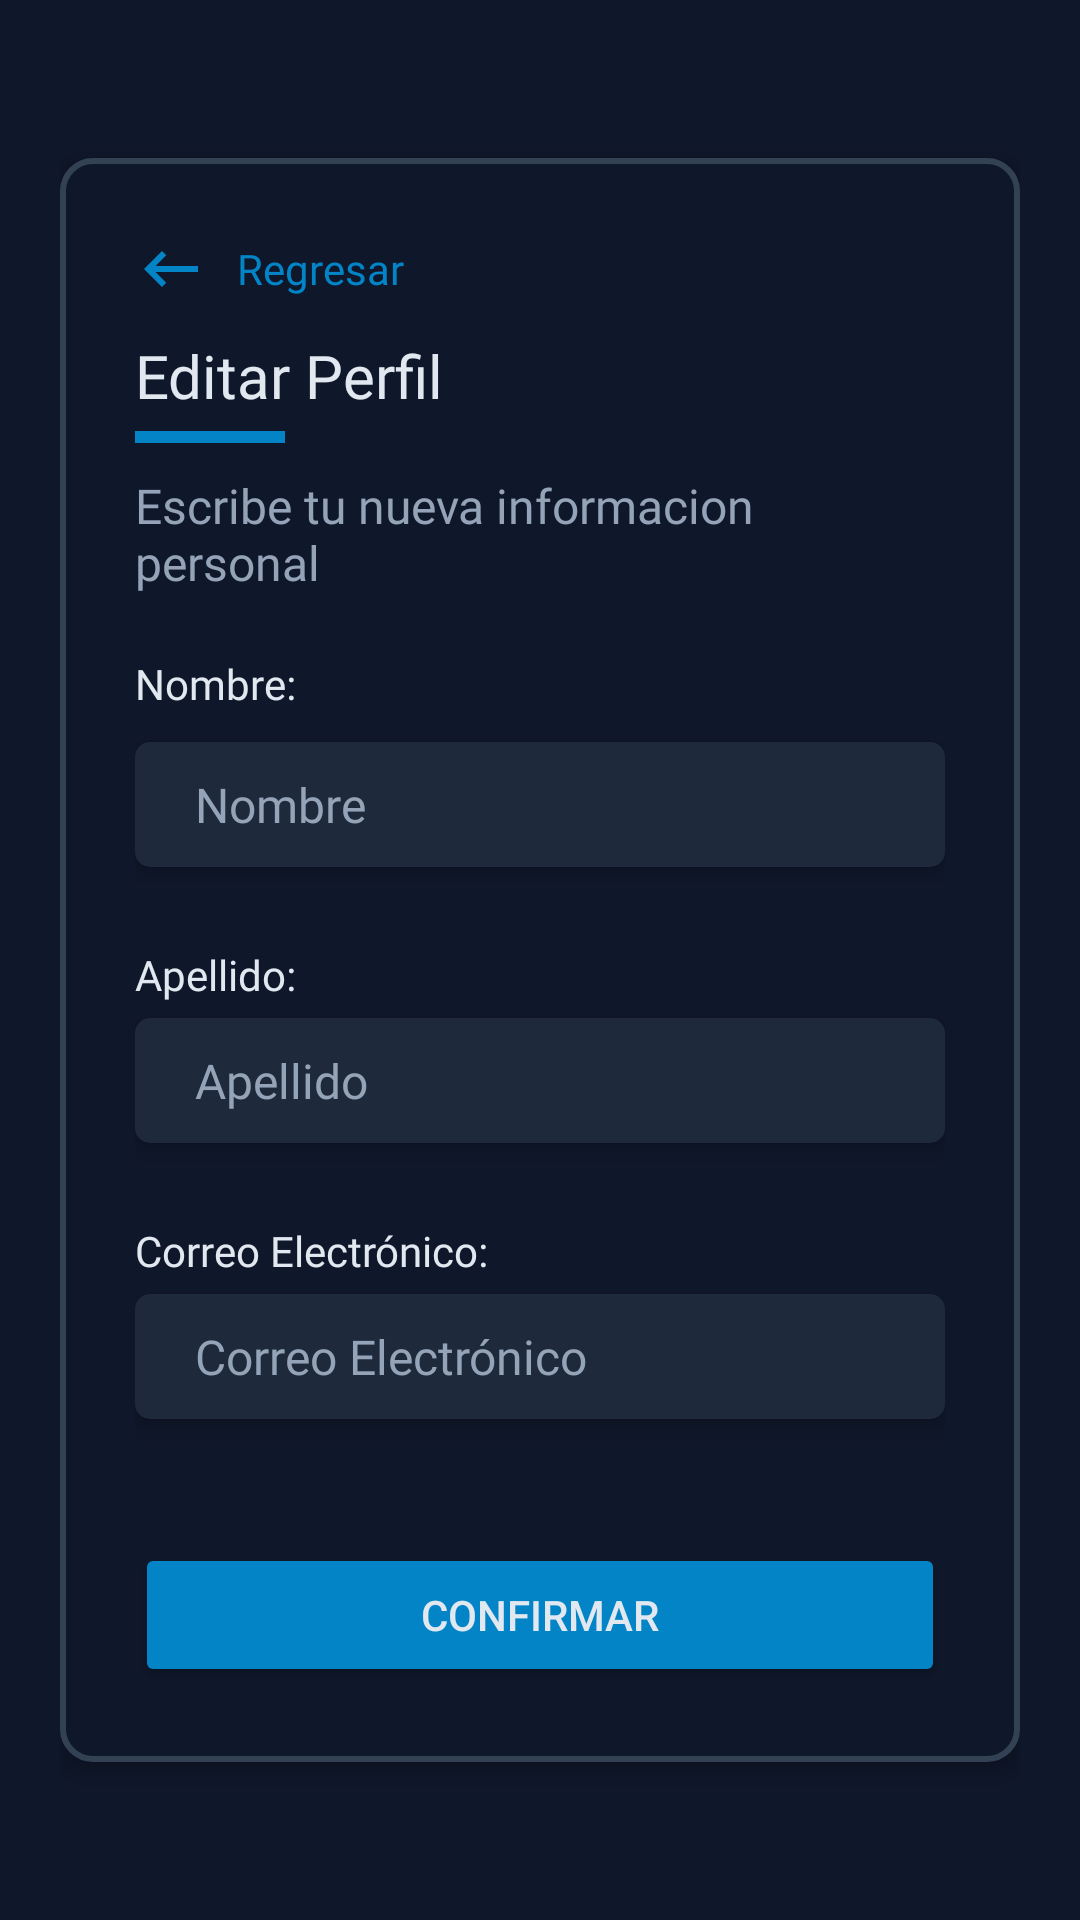

Screen size 1080 x 1920. Icon name, then its center in pixels as (x,y):
keyboard backspace: (171,269)
